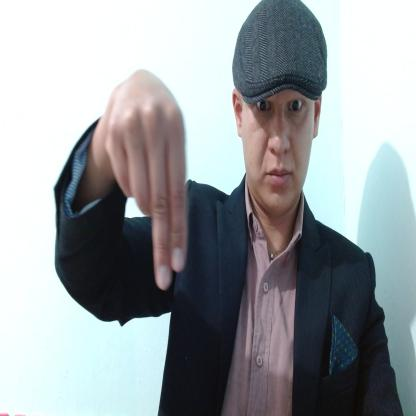N: (105, 70, 186, 288)
